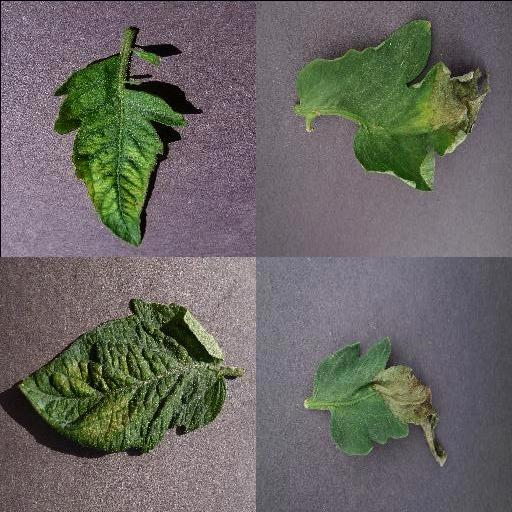Late Blight: (293, 17, 491, 191), (313, 336, 447, 466)
Mosaic Virus: (51, 53, 191, 247)
Spider Mites: (13, 297, 225, 451)
